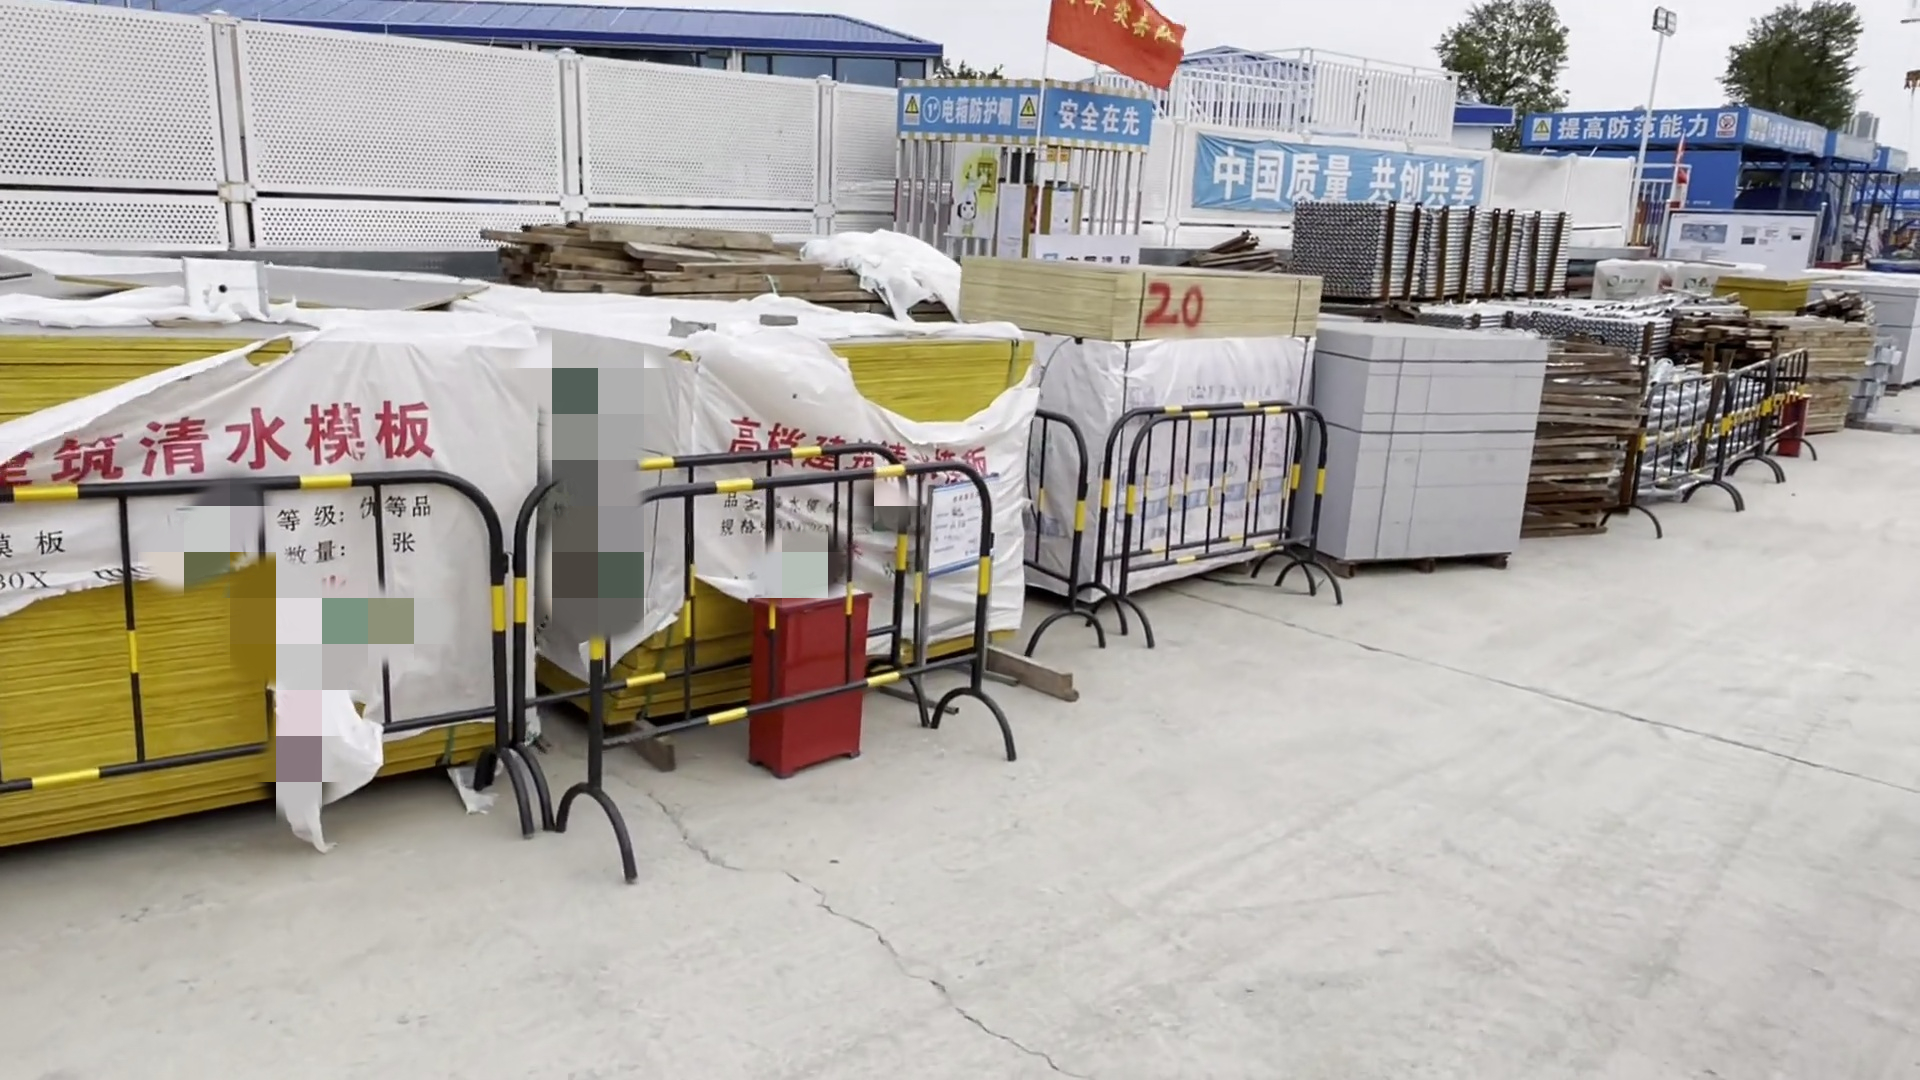brick: (1287, 327, 1534, 572), (1816, 270, 1920, 382)
fence: (1, 431, 534, 909), (539, 444, 1034, 890), (1105, 411, 1344, 661), (1611, 367, 1737, 543), (1731, 342, 1816, 487)
slogan: (1212, 135, 1505, 215), (1542, 108, 1735, 152), (905, 86, 1031, 137), (1084, 1, 1175, 69), (1054, 86, 1149, 141)
